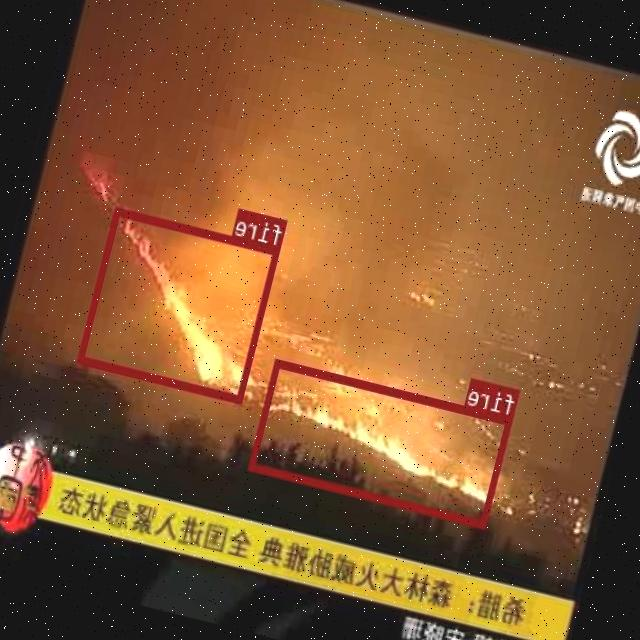fire: (250, 358, 514, 528), (78, 206, 282, 402)
